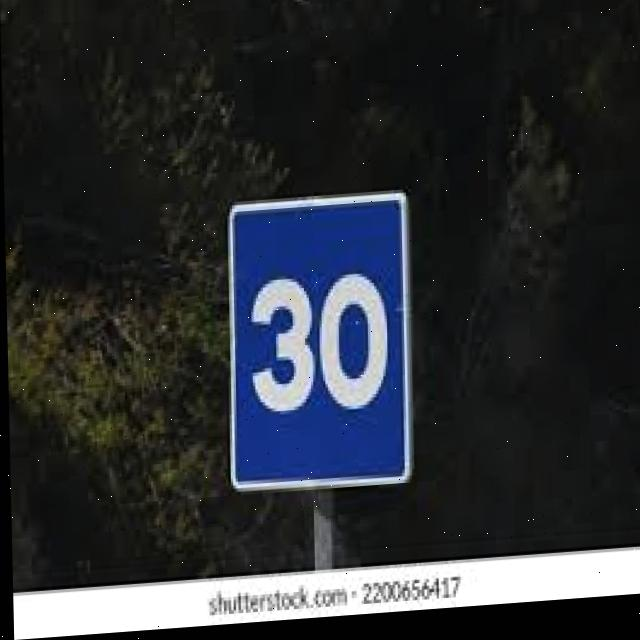Speed limit 30: (222, 193, 416, 501)
